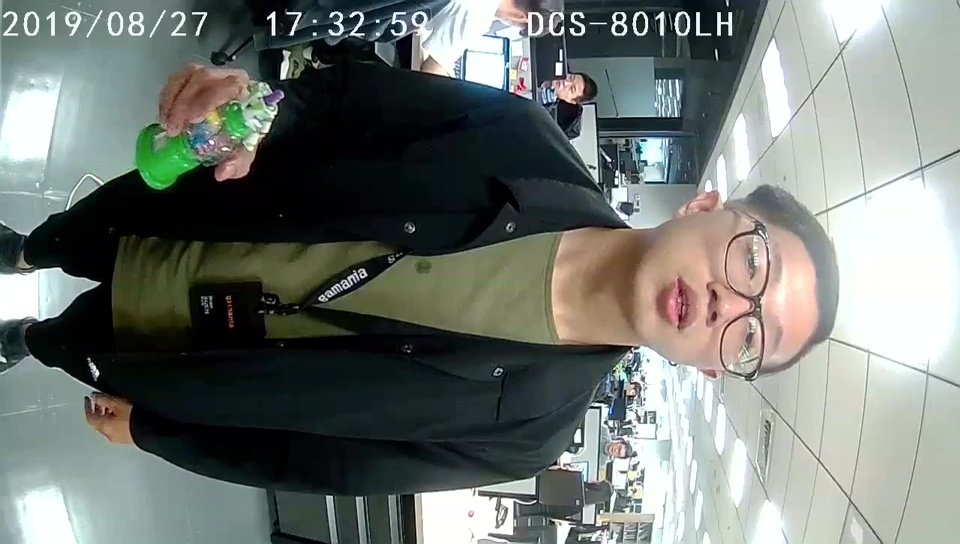buzz: (135, 74, 284, 191)
